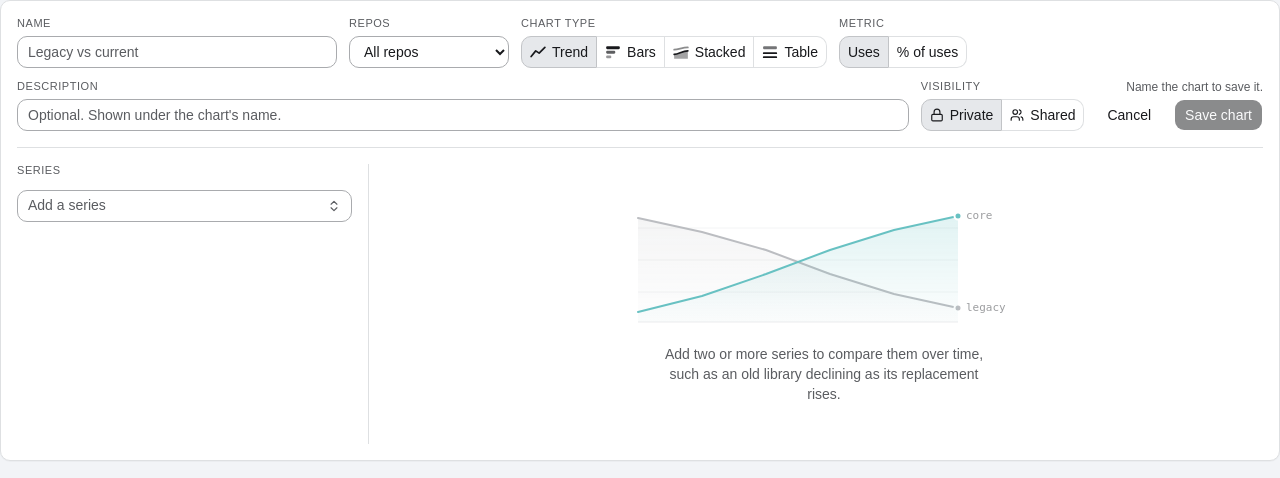
chart builder read availability › clears a stale preview when a subsequent request is unavailable
Click the dropdown labelled "Add a series" at x=174, y=206, box [28,191,321,221]
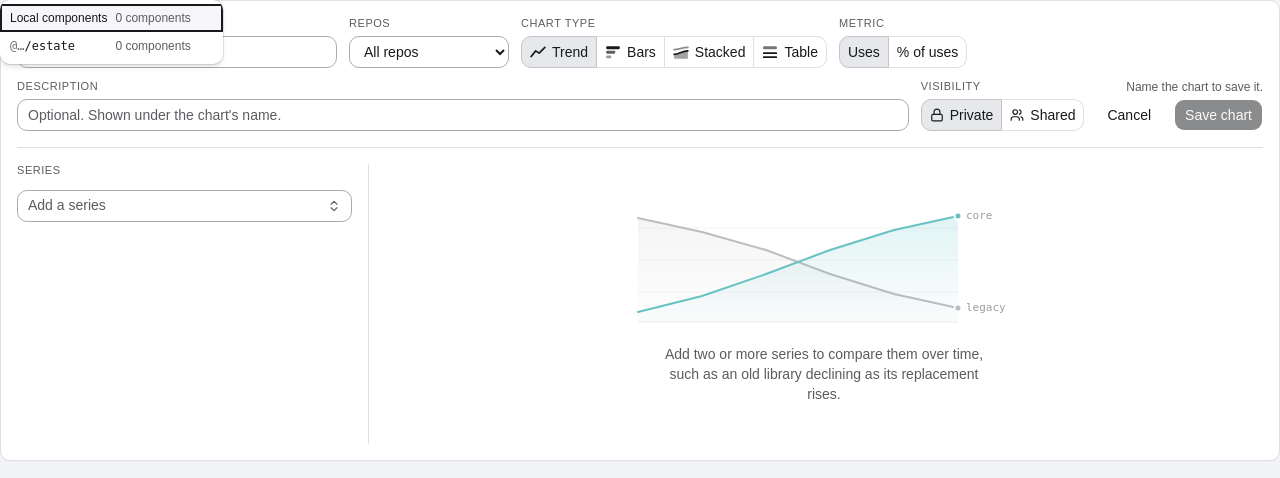
Click the option "Local components 0 components" at x=111, y=18, box [0,4,223,32]
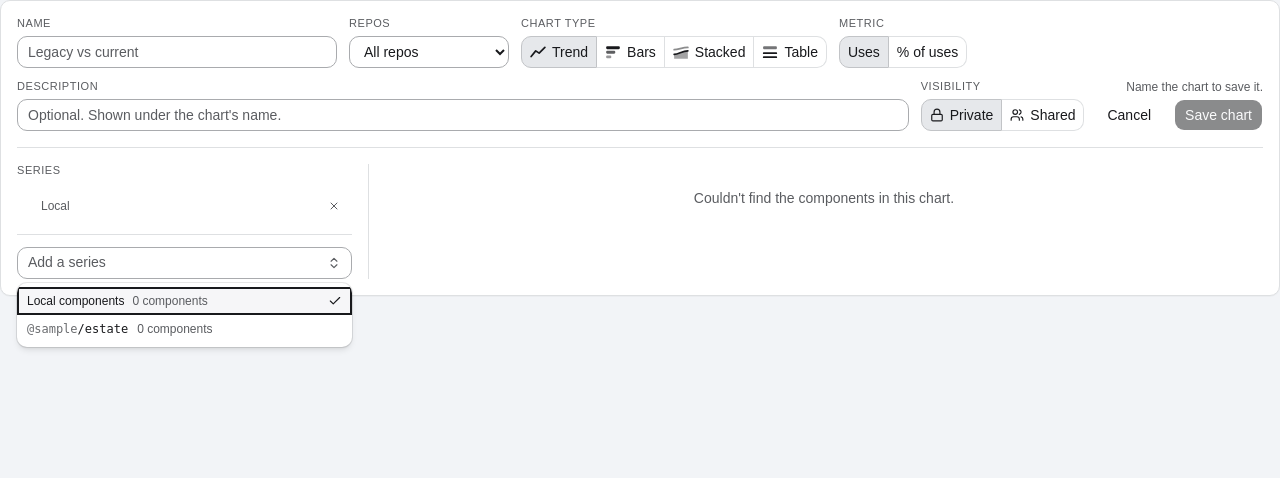
Result: the text "Couldn't find the components in this chart." is shown at [694,190,954,206]
Click the button "% of uses" at x=928, y=52, box [889,36,967,68]
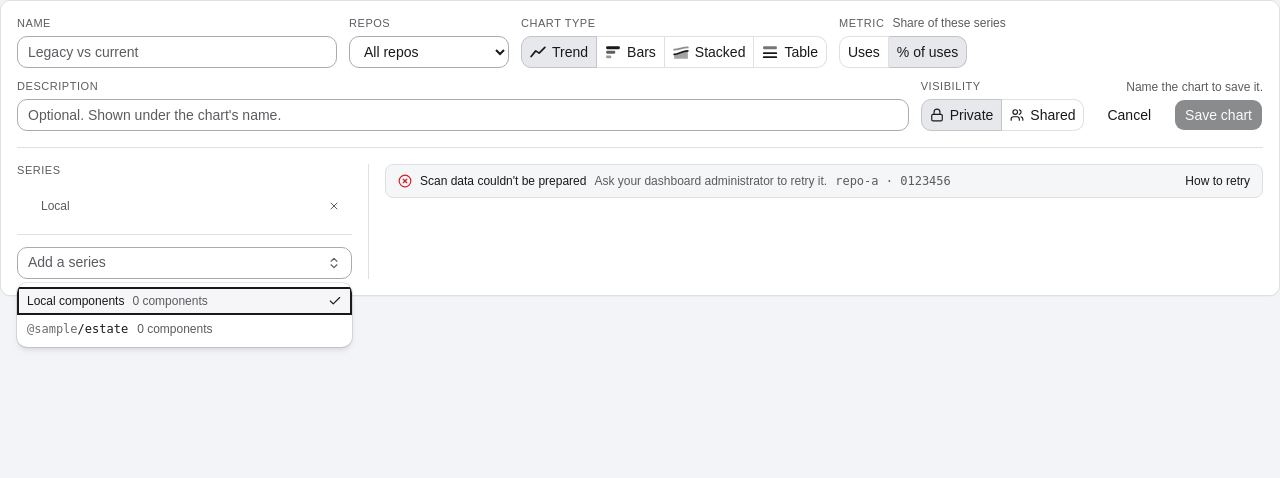
Result: the message shows "repo-a · 0123456" at [835,174,951,188]
Result: the text "Couldn't find the components in this chart." is gone
